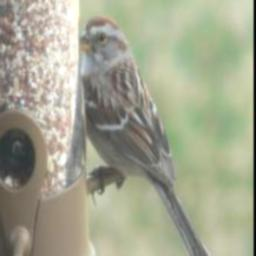Sparrow: (80, 13, 215, 256)
